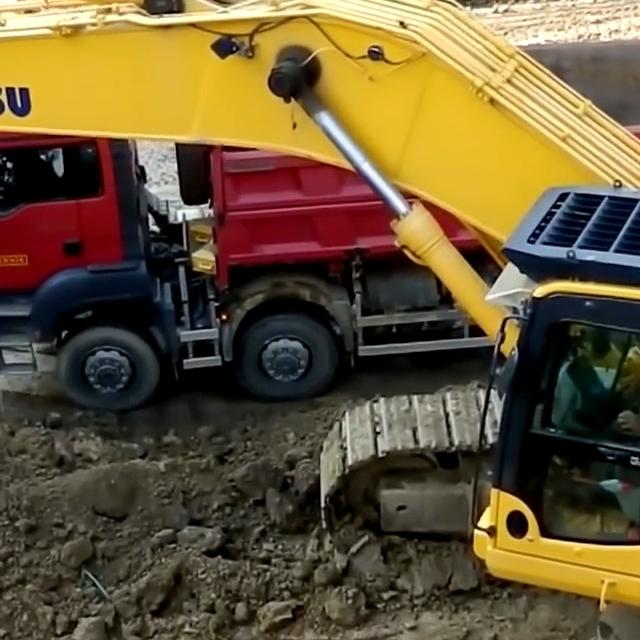Excavator: (0, 0, 640, 640)
NO-Safety Vest: (11, 170, 58, 199)
Person: (578, 345, 640, 490), (0, 153, 59, 209)
dump truck: (0, 15, 640, 409)
